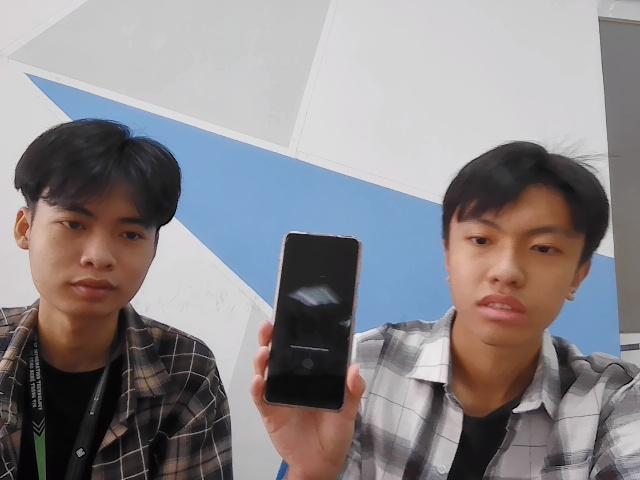human: (439, 141, 612, 351), (12, 117, 188, 319)
phone: (262, 224, 362, 415)
